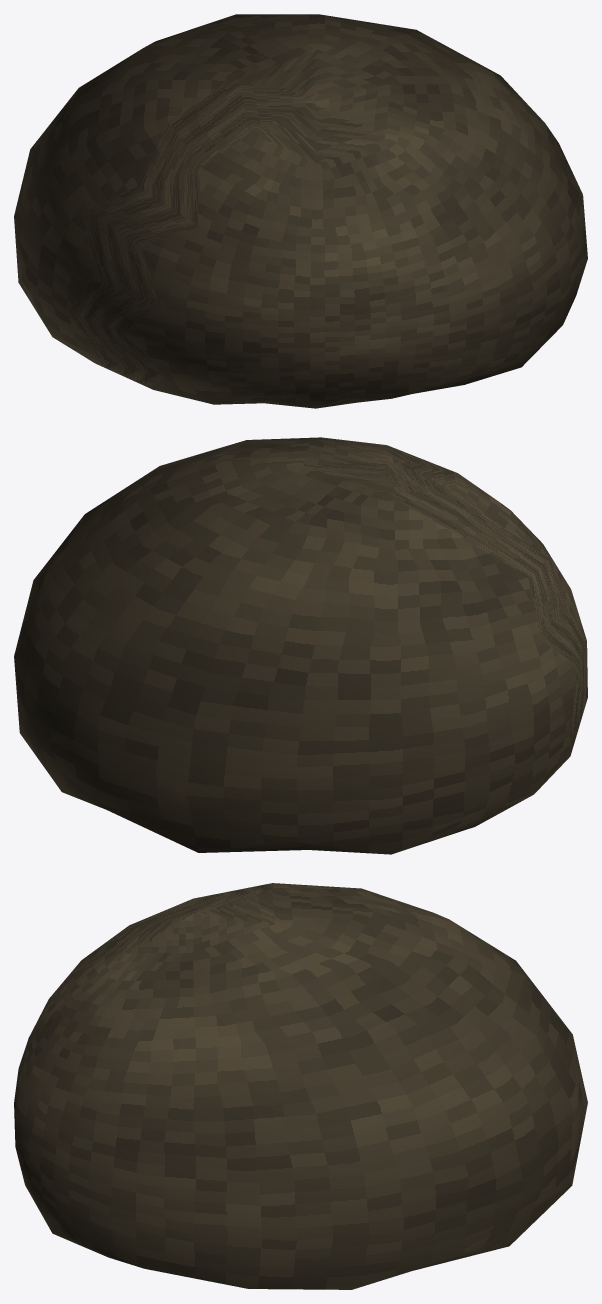
The model's file is stone_3.glb.
The picture shows the model from 3 angles, top to bottom: view 1: azimuth 30°, elevation 25°; view 2: azimuth 150°, elevation 25°; view 3: azimuth 270°, elevation 25°; orthographic projection. The views are drawn at different scales.
Parts seen in each view (by area): view 1: stone_3; view 2: stone_3; view 3: stone_3.
Part boxes in pixels (box(x1,y1,x2,y2)): stone_3: box(14, 14, 587, 408); stone_3: box(14, 437, 587, 854); stone_3: box(14, 883, 587, 1289).
Size of the model in its own units: 0.1107 by 0.0562 by 0.1104.
1 material, 1 textured.
